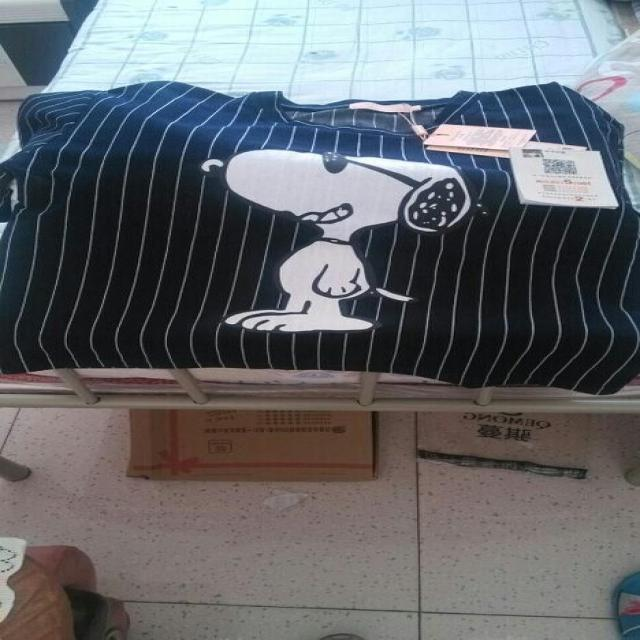short-sleeve-top: (18, 67, 640, 428)
